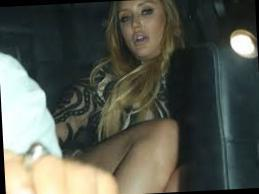Drunk: (120, 0, 166, 56)
